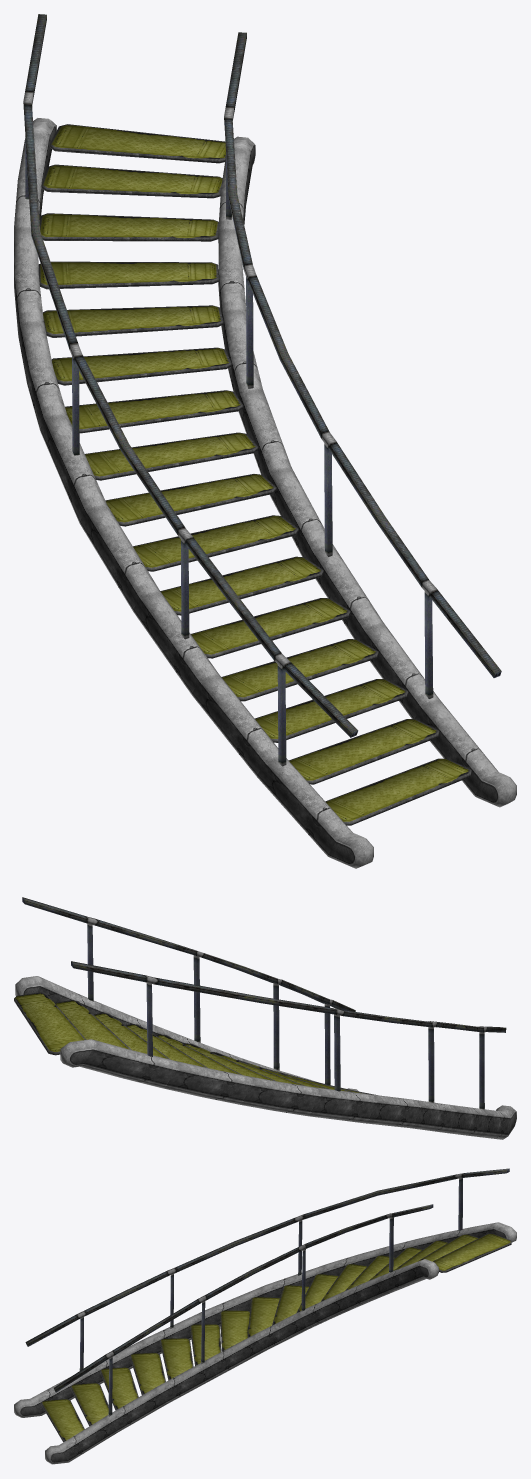
The model's file is metal_datasite_concave_left.dae.
The picture shows the model from 3 angles, top to bottom: view 1: azimuth 30°, elevation 25°; view 2: azimuth 150°, elevation 25°; view 3: azimuth 270°, elevation 25°; orthographic projection. The views are drawn at different scales.
Parts seen in each view (by area): view 1: polySurface20, polySurface25; view 2: polySurface20, polySurface25; view 3: polySurface20, polySurface25.
Part boxes in pixels (x1,y1,x2,y2): polySurface20: [14, 118, 516, 868]; polySurface25: [23, 14, 501, 766]; polySurface20: [14, 976, 516, 1139]; polySurface25: [22, 897, 506, 1109]; polySurface20: [14, 1222, 516, 1464]; polySurface25: [25, 1168, 509, 1416].
Size of the model in its own units: 3.59 by 5.43 by 8.84.
2 materials, 2 textured.
